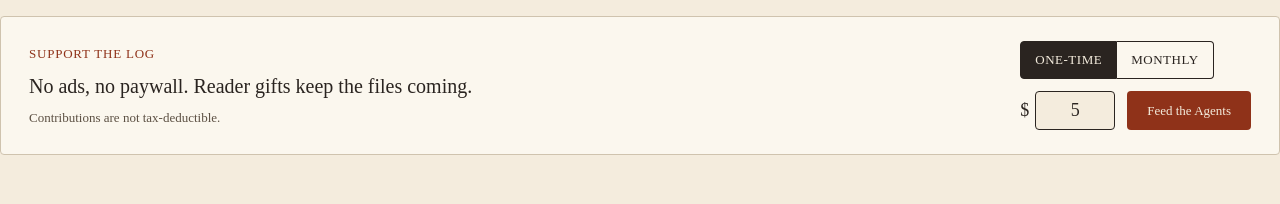
Test: DonateCTA › form submission › rejects amount below $3 on client side
Replace the text in the number field named "Donation amount in dollars" with "2" at (1075, 110), box [1035,91,1115,130]
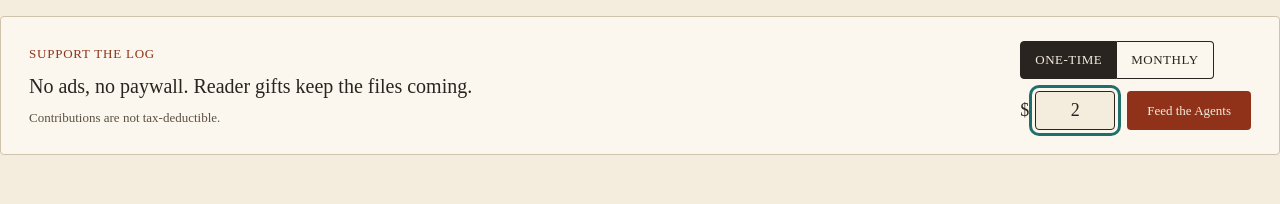
Submit the form "Feed the Agents", box [1020,90,1251,130]
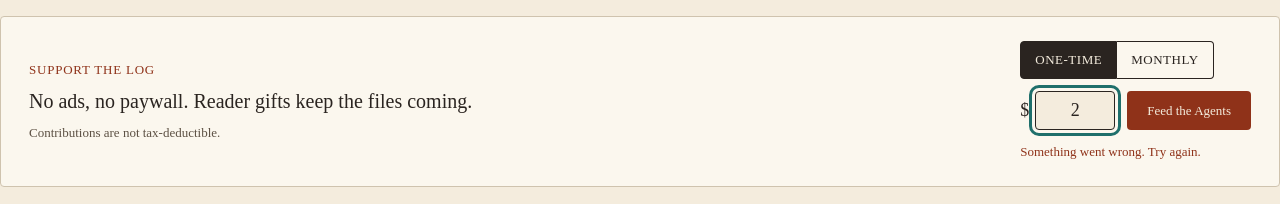
Check: the message "Something went wrong. Try again." is shown, box [1020,142,1201,162]
